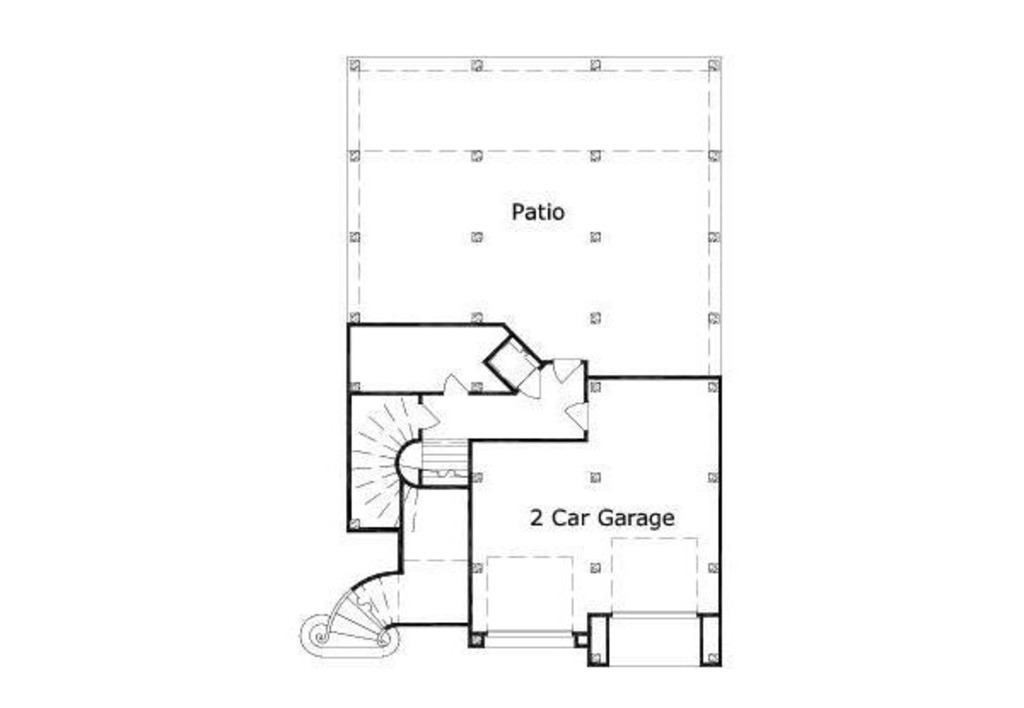door: (561, 398, 589, 432), (442, 371, 477, 398), (551, 358, 582, 386), (521, 370, 547, 402), (419, 401, 442, 433)
stairs: (295, 571, 403, 662)
